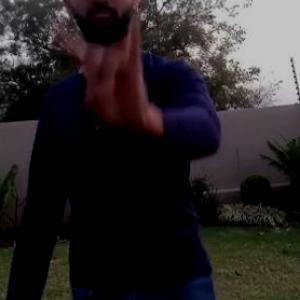takeoff-hand: (49, 12, 153, 142)
